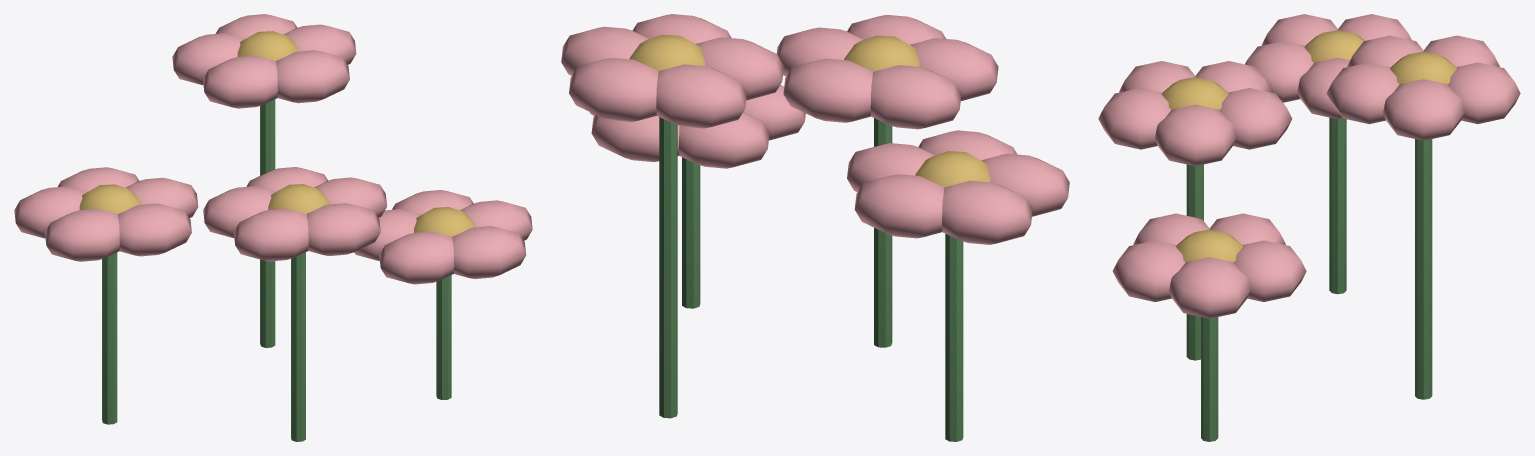
The model's file is flowers_a.glb.
3 renders of one model, left to right at view 1: azimuth 30°, elevation 25°; view 2: azimuth 150°, elevation 25°; view 3: azimuth 270°, elevation 25°, orthographic. The views are drawn at different scales.
Visible parts, largest first — view 1: petal.018, petal.008, petal.003, petal.013, petal.004, petal.009, petal.019, petal.014, stem.003, stem, stem.001, petal.002 (+16 smaller); view 2: stem.001, petal.007, petal.002, petal.017, petal.001, petal.006, petal.016, stem, petal.012, petal.003, petal.008, petal.018 (+13 smaller); view 3: stem.001, petal.005, petal.015, petal.010, petal.009, petal.014, petal.016, petal.011, petal.006, petal.019, stem, petal.004 (+15 smaller).
Boxes of the visible parts, <box> form: petal.018: <box>233,208,308,261</box>; petal.008: <box>203,55,277,108</box>; petal.003: <box>45,208,119,261</box>; petal.013: <box>379,231,454,284</box>; petal.004: <box>118,203,191,256</box>; petal.009: <box>276,50,349,103</box>; petal.019: <box>306,203,380,255</box>; petal.014: <box>452,226,526,278</box>; stem.003: <box>291,252,305,441</box>; stem: <box>102,252,117,424</box>; stem.001: <box>260,99,275,347</box>; petal.002: <box>14,186,86,238</box>; stem.001: <box>659,117,677,418</box>; petal.007: <box>656,64,746,128</box>; petal.002: <box>942,180,1032,244</box>; petal.017: <box>870,65,961,129</box>; petal.001: <box>854,174,944,238</box>; petal.006: <box>569,58,658,121</box>; petal.016: <box>783,58,872,122</box>; stem: <box>945,233,963,441</box>; petal.012: <box>679,112,769,168</box>; petal.003: <box>981,153,1069,216</box>; petal.008: <box>695,37,783,100</box>; petal.018: <box>910,38,998,100</box>; stem.001: <box>1415,139,1432,399</box>; petal.005: <box>1383,79,1463,140</box>; petal.015: <box>1155,104,1235,166</box>; petal.010: <box>1169,257,1249,318</box>; petal.009: <box>1326,62,1399,124</box>; petal.014: <box>1112,240,1185,301</box>; petal.016: <box>1219,88,1292,149</box>; petal.011: <box>1234,240,1306,301</box>; petal.006: <box>1448,62,1520,123</box>; petal.019: <box>1098,88,1170,149</box>; stem: <box>1329,117,1346,294</box>; petal.004: <box>1245,41,1313,102</box>.
Bounding box in the file's own units: 0.7847 × 0.525 × 0.5922.
